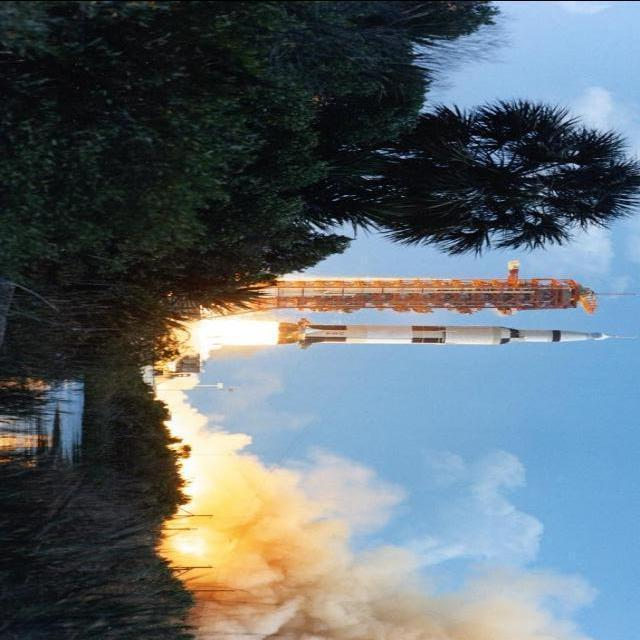missile: (274, 313, 617, 352)
